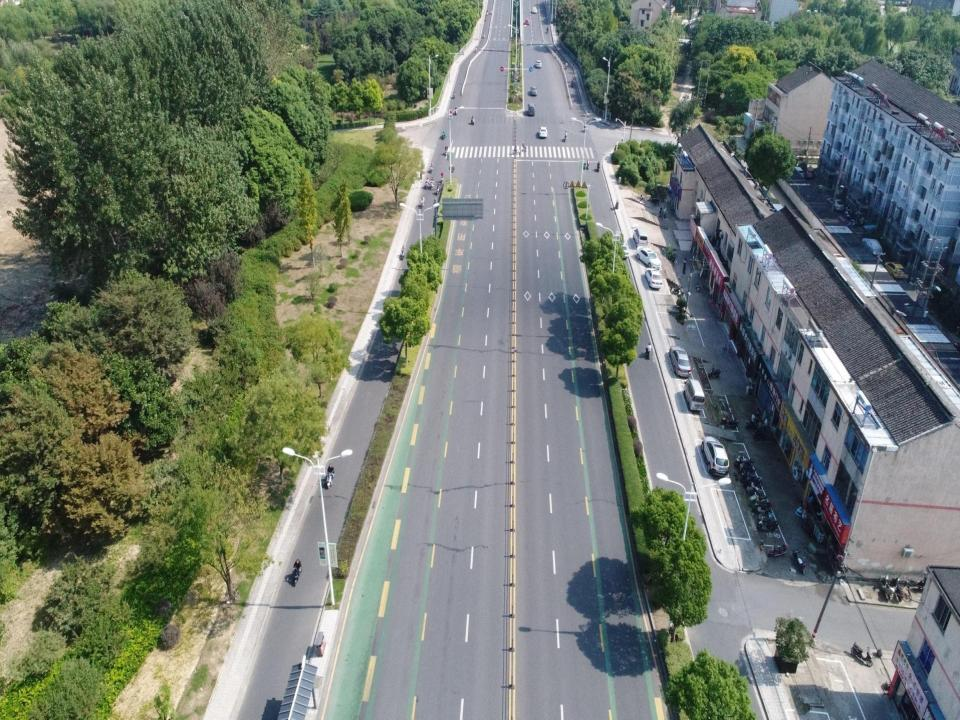car: (701, 434, 730, 478), (668, 343, 691, 379), (634, 245, 663, 269), (884, 259, 906, 280), (644, 266, 664, 289), (862, 235, 883, 255), (827, 196, 844, 212), (618, 241, 629, 259), (794, 165, 804, 179), (807, 164, 815, 179), (539, 126, 548, 139), (530, 86, 538, 96), (535, 60, 542, 68), (532, 6, 537, 15), (524, 19, 530, 25)
van: (684, 379, 704, 412), (631, 227, 648, 249), (527, 102, 536, 116)
